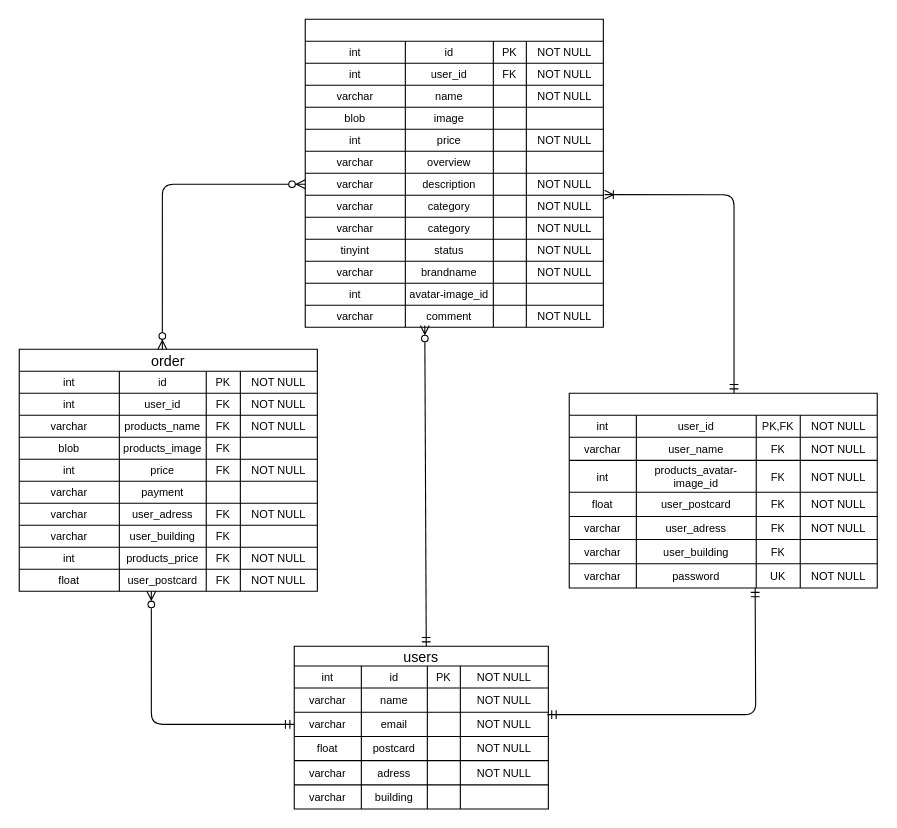
Image size: 897x828. Some labels were removed from this diagram. The shapes that lost their labels are listed below. From the top down, each one's box as (x1, y1, x2, y2) in pixels, then its label:
(304, 18, 603, 327): products
(568, 392, 877, 588): profile
